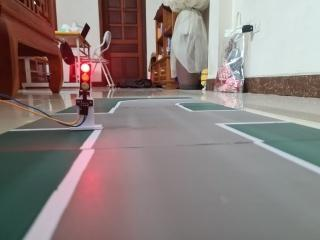red: (73, 56, 98, 102)
